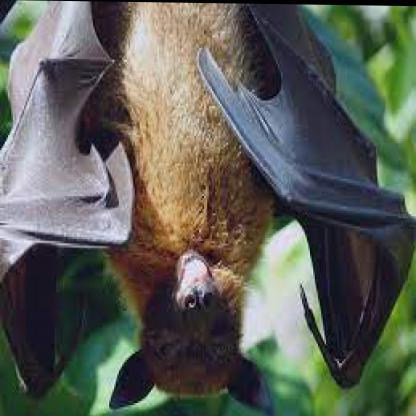Bat: (0, 0, 413, 412)
